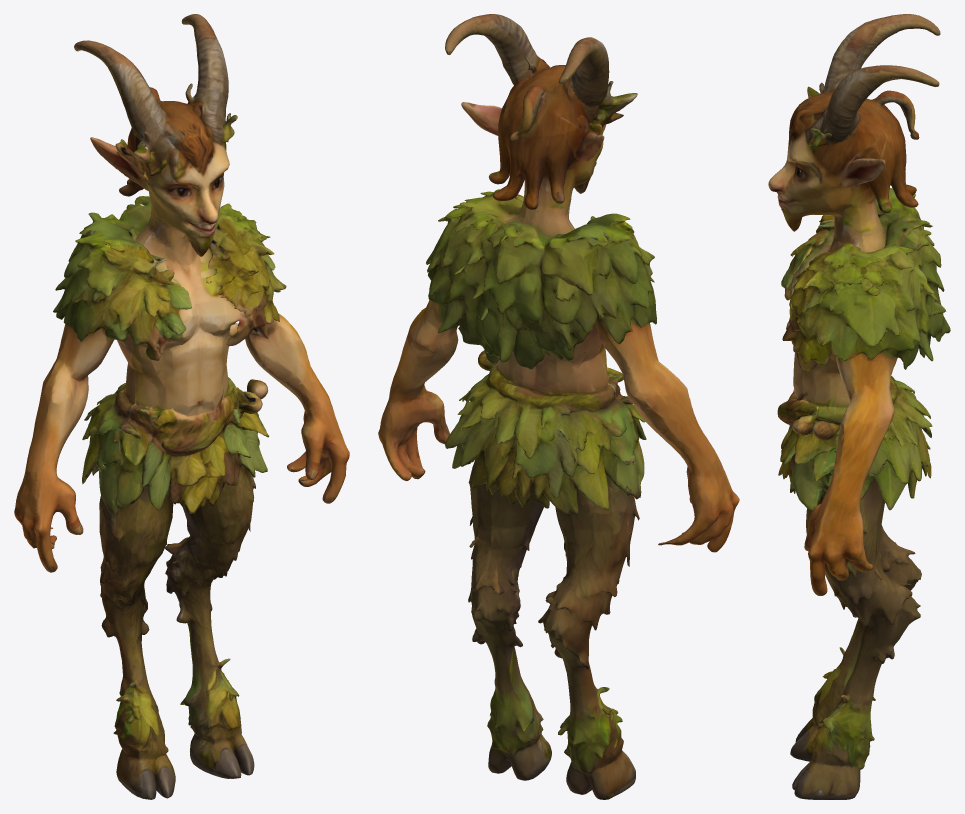
The model's file is satyr__satyr-spirit.glb.
The picture shows the model from 3 angles, left to right: view 1: azimuth 30°, elevation 25°; view 2: azimuth 150°, elevation 25°; view 3: azimuth 270°, elevation 25°; orthographic projection. The views are drawn at different scales.
Size of the model in its own units: 0.9339 by 2 by 0.452.
1 material, 1 textured.
